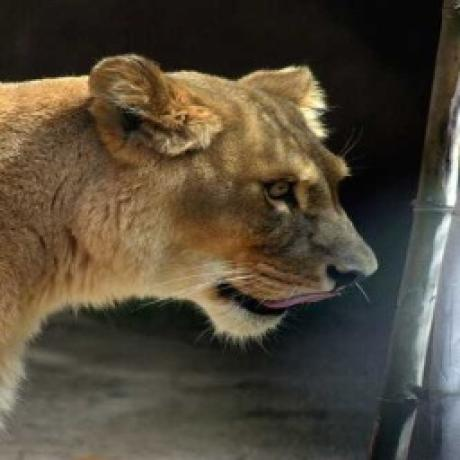Lion: (0, 50, 381, 420)
